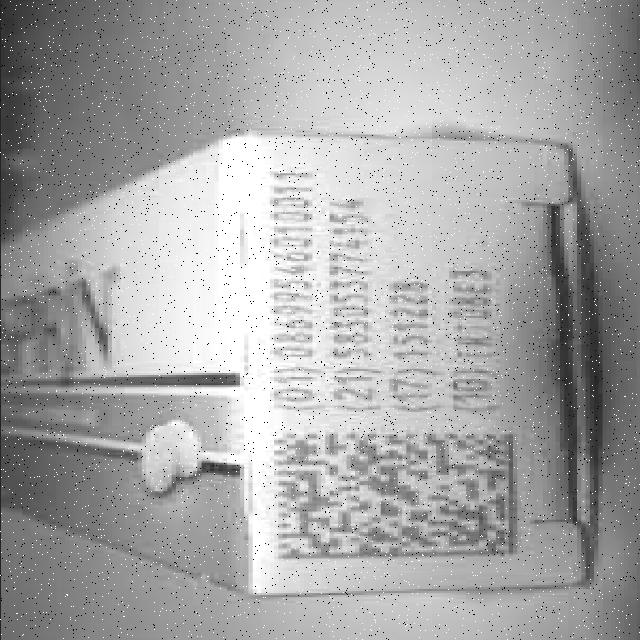datamatrix: (252, 428, 529, 565)
